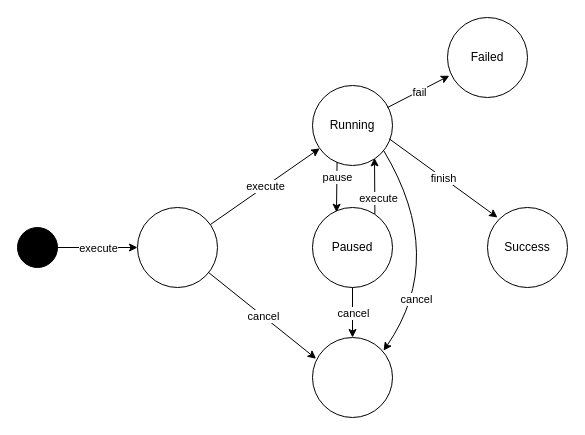
Image size: 585x435. Some labels were removed from this diagram. Each missing label, with the box of its shape:
Cancelled: (312, 336, 392, 418)
Queued: (136, 206, 218, 288)
